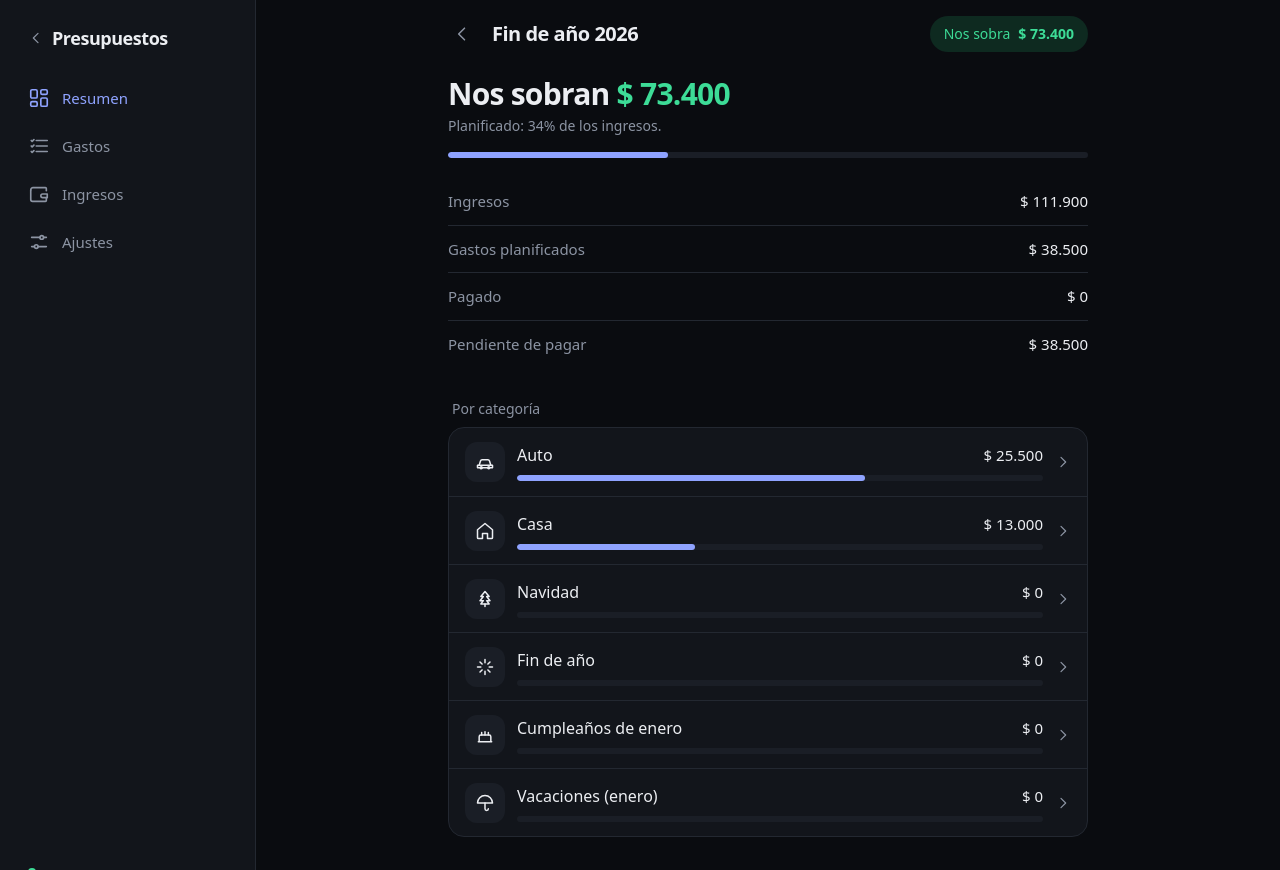
Test: lista de regalos de Navidad (UI) › muestra las 16 personas
Click the button "Navidad $ 0": (485, 598) x1=449 y1=564 x2=1087 y2=632
(page scrolled)
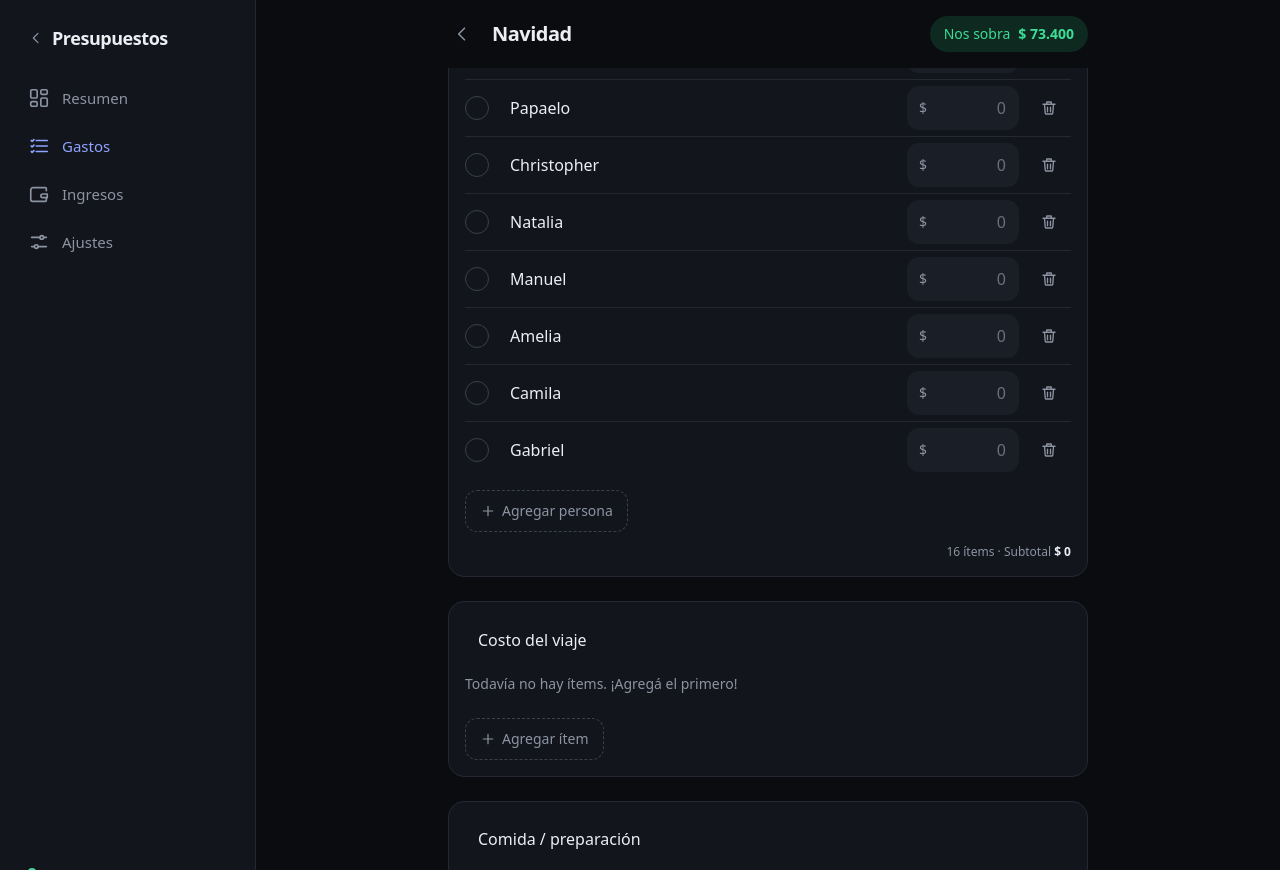
Now the number field named "Monto de Gabriel" is shown, box x1=907 y1=428 x2=1019 y2=472
